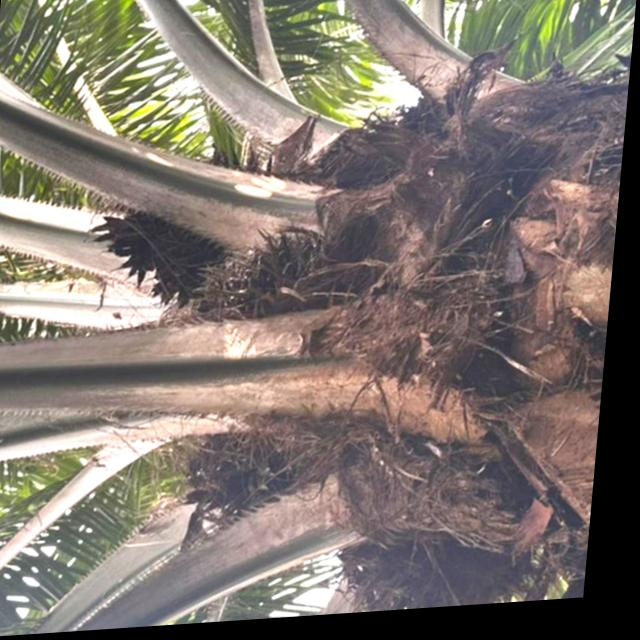unripe: (187, 214, 369, 346)
